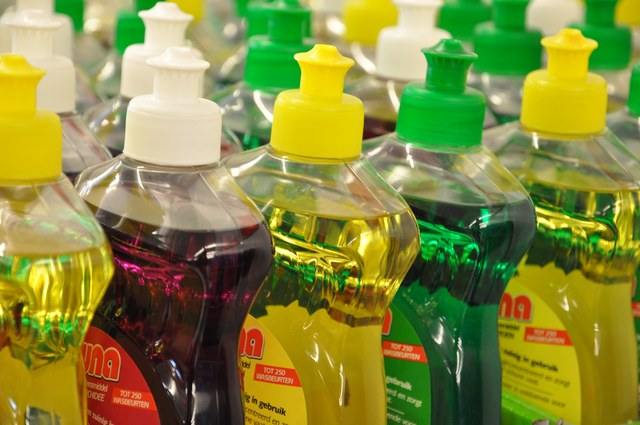Pril Dishwash Liquid: (32, 21, 608, 404)
